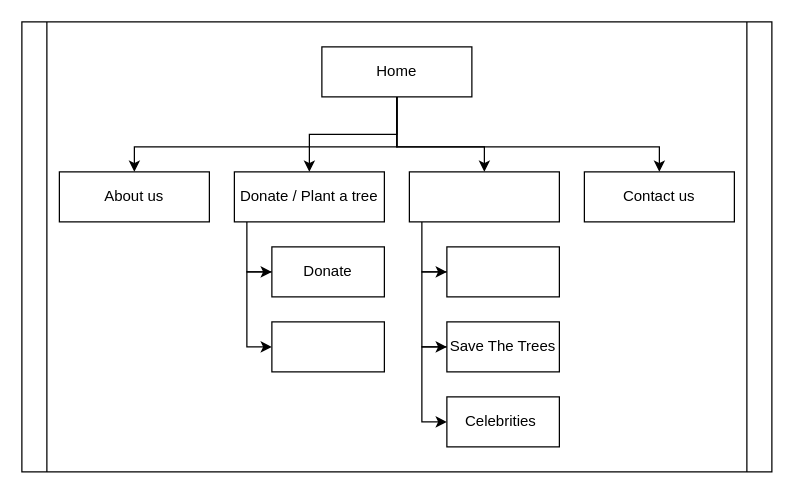
The diagram is 794 pixels wide and 494 high, and some of its shapes have lost their labels. The shapes that lost their labels are listed below. From the top down, each one's box as (x1, y1, x2, y2) in pixels, then its label:
(408, 171, 559, 222): Partners / Sponsors
(446, 246, 559, 297): Greenpeace
(271, 321, 384, 372): Plant a tree
